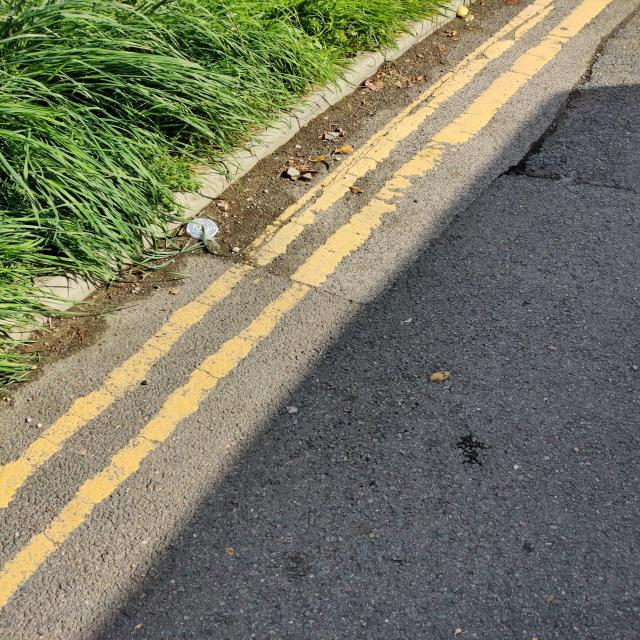litter: (191, 214, 221, 248), (188, 219, 218, 240)
